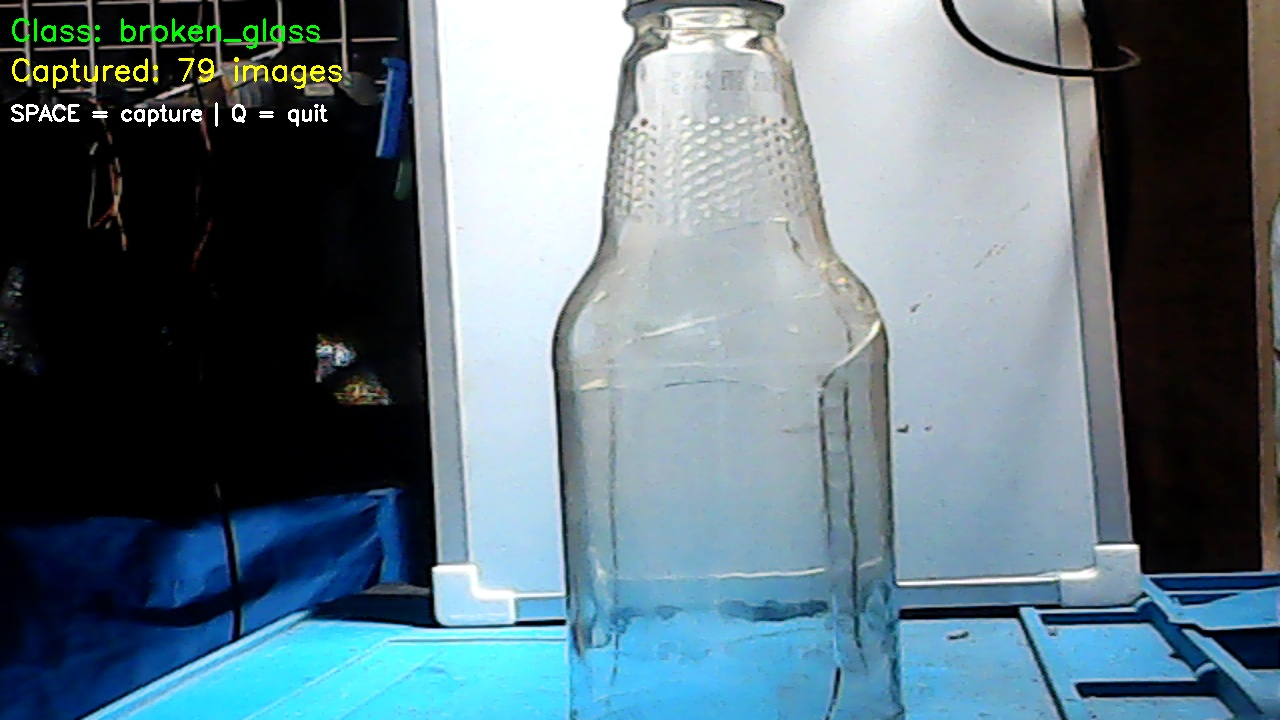broken_glass: (553, 8, 912, 720)
